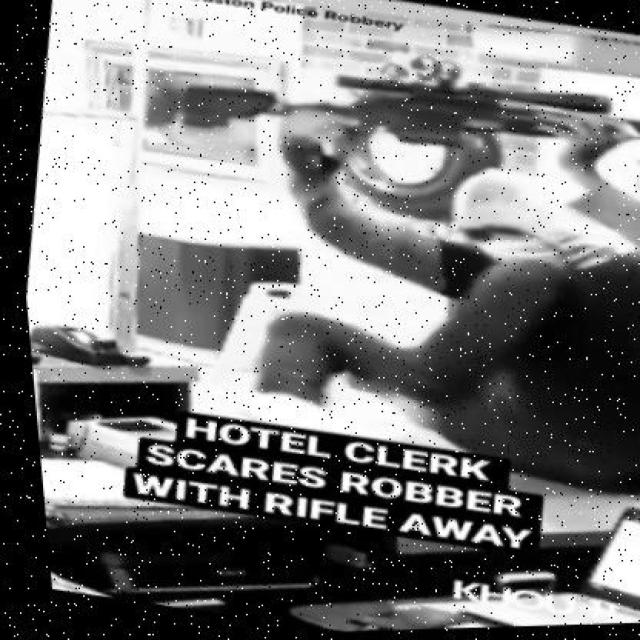weapon: (147, 73, 640, 226)
